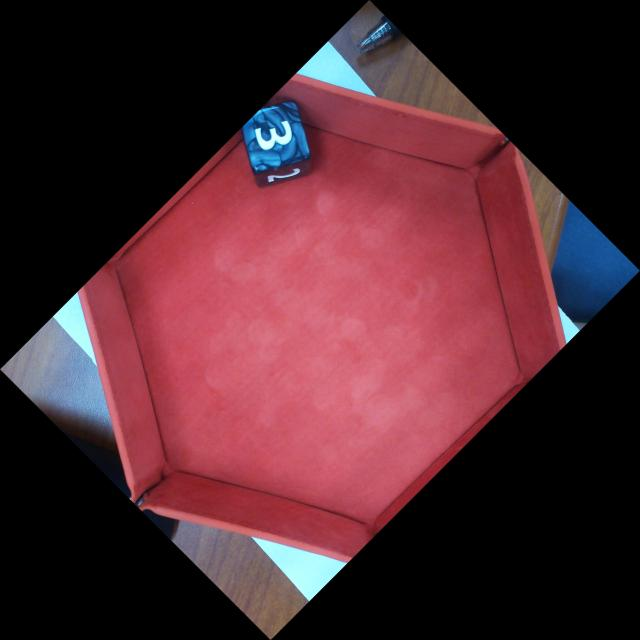dice: (247, 103, 308, 171)
